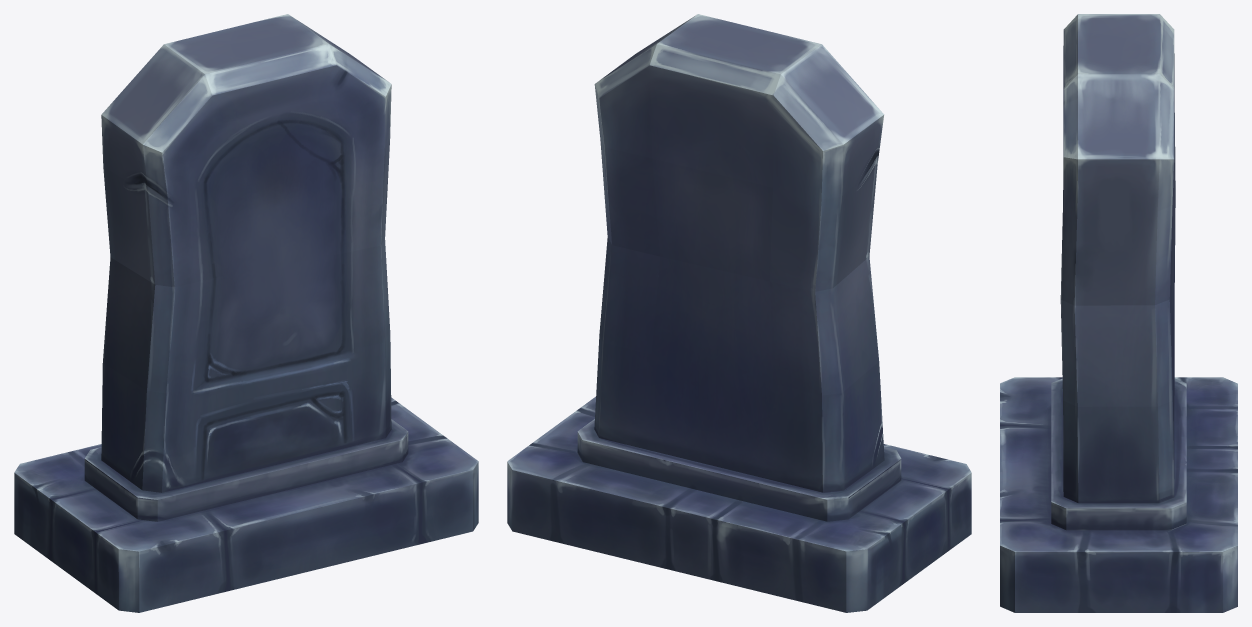
The model's file is gravestone_1.fbx.
3 renders of one model, left to right at view 1: azimuth 30°, elevation 25°; view 2: azimuth 150°, elevation 25°; view 3: azimuth 270°, elevation 25°, orthographic.
Parts seen in each view (by area): view 1: Cube; view 2: Cube; view 3: Cube.
Part boxes in pixels (box(x1,y1,x2,y2)): Cube: box(14, 14, 478, 612); Cube: box(507, 14, 971, 612); Cube: box(1000, 14, 1237, 612).
Bounding box in the file's own units: 237 × 305 × 136.
